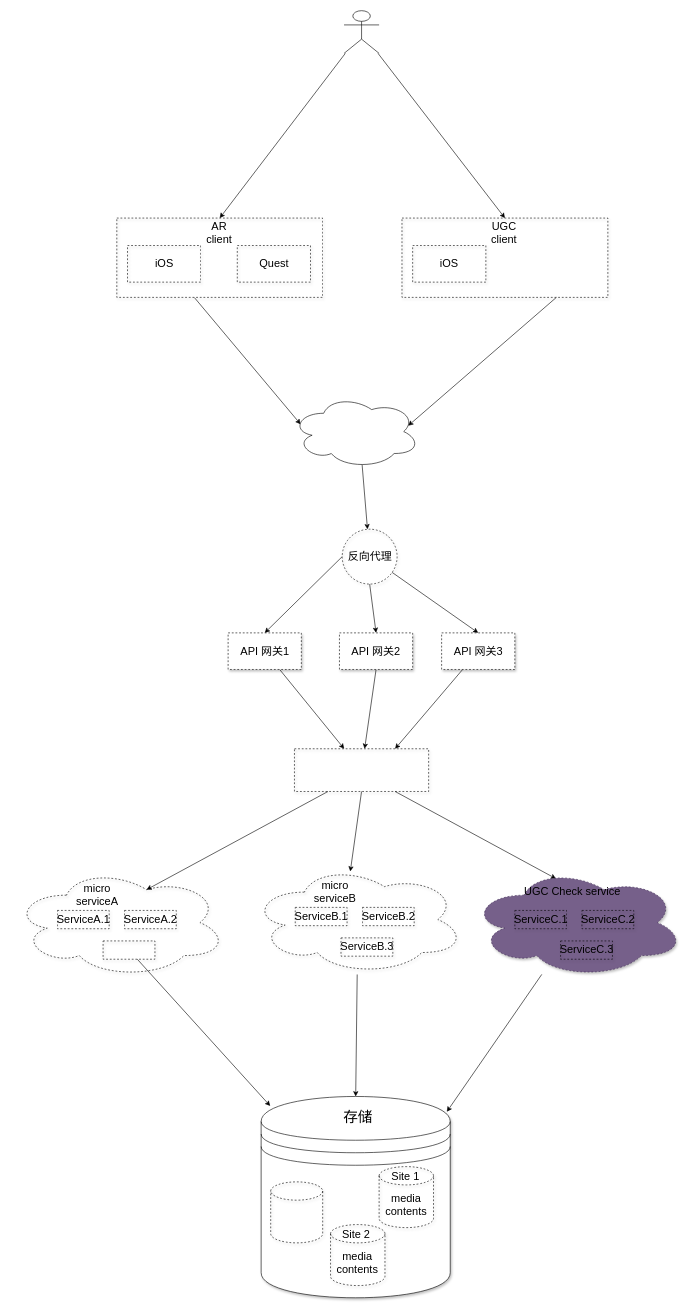
The diagram is 698 pixels wide and 1313 high, and some of its shapes have lost their labels. Each missing label, with the centre of its shape:
"service monitor center" goes at (x=361, y=771).
"ServiceA.3" goes at (x=129, y=950).
"User" goes at (x=361, y=31).
"user data" goes at (x=297, y=1213).
"互联网" goes at (x=355, y=431).
